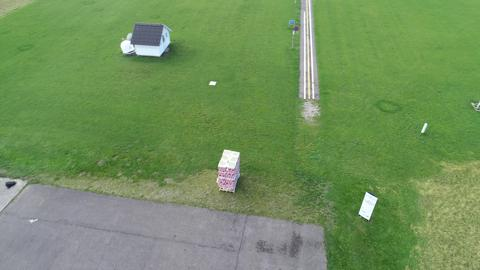RockwoolPallet: (217, 149, 242, 194)
